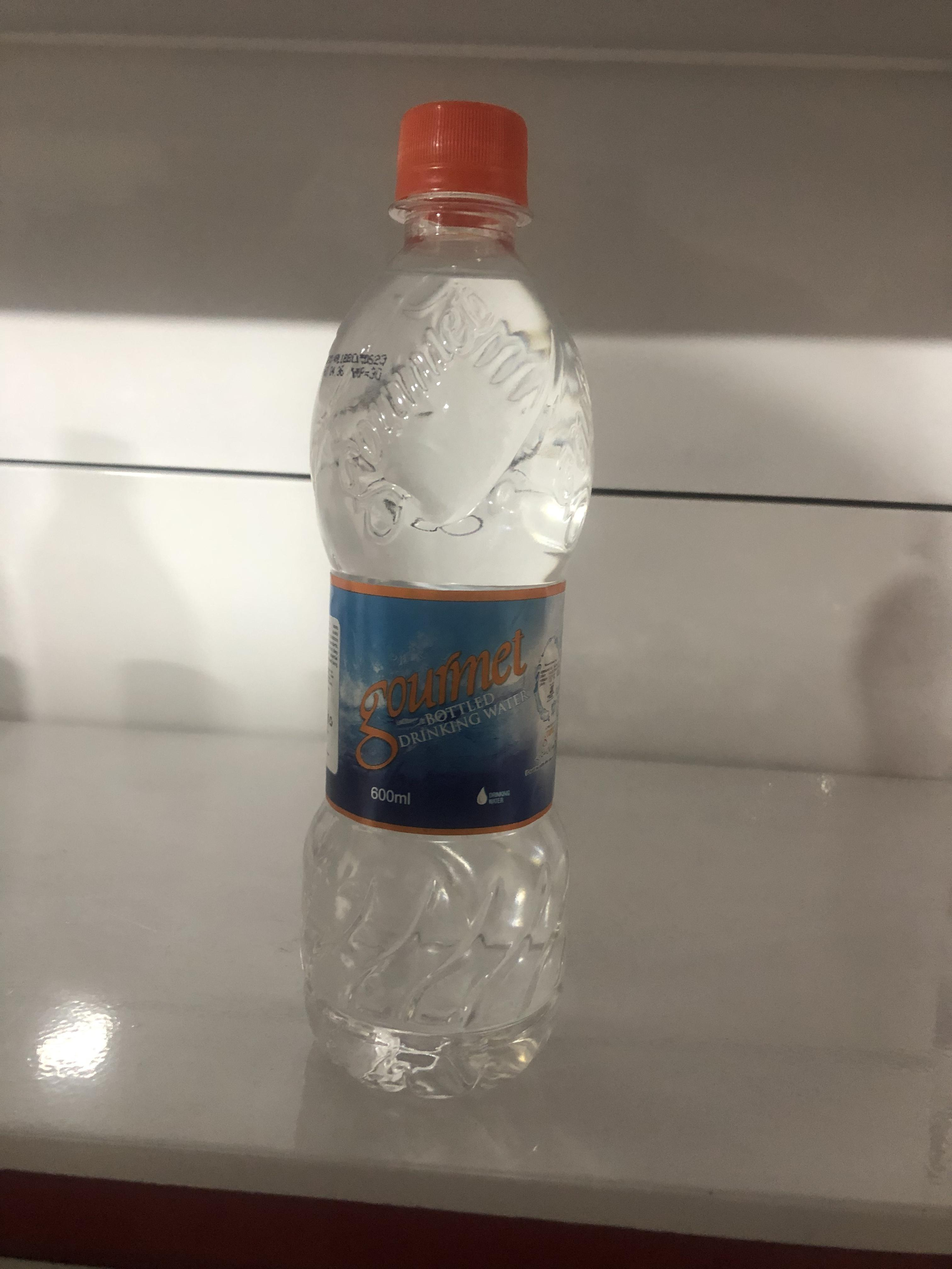bottle-plastic: (281, 79, 611, 1116)
